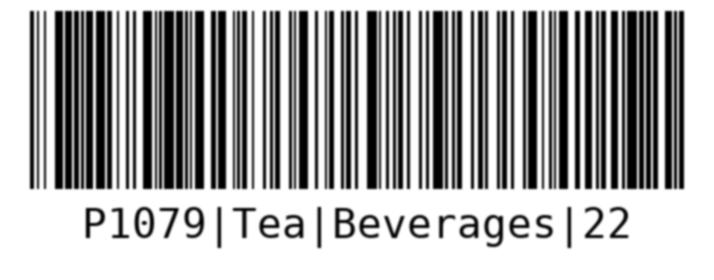milk: (17, 7, 695, 266)
